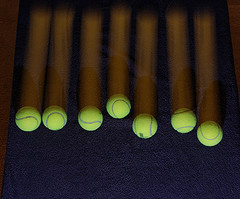tennis ball: (14, 105, 42, 132), (77, 105, 104, 132), (131, 113, 158, 140), (196, 120, 223, 147), (170, 107, 197, 133), (42, 104, 68, 130), (104, 93, 131, 118)
